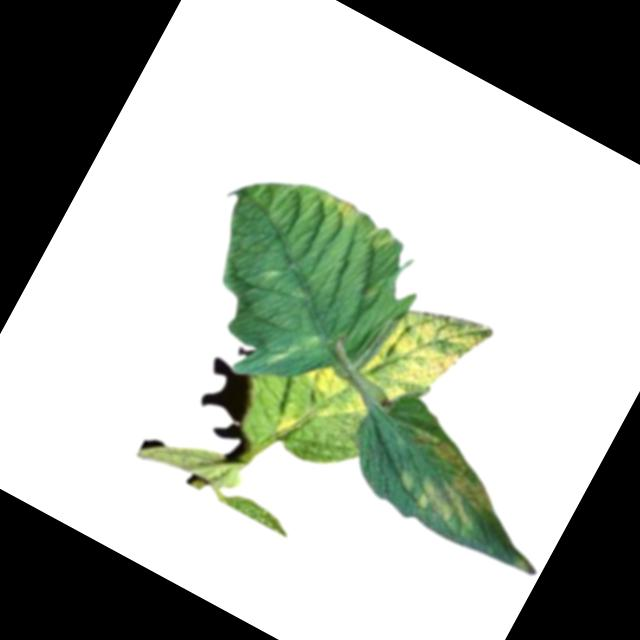Leaf_Mold: (353, 283, 497, 432), (378, 418, 517, 542), (288, 353, 384, 439), (317, 187, 366, 227), (268, 406, 303, 446)
